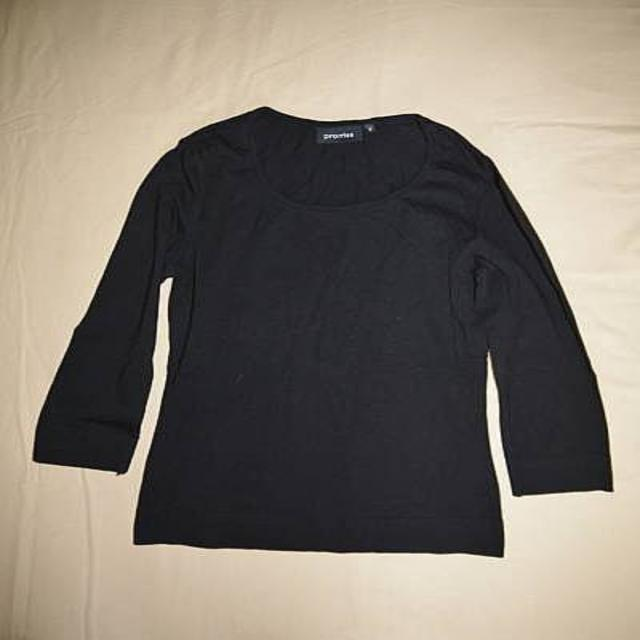SHIRT: (16, 94, 639, 563)
